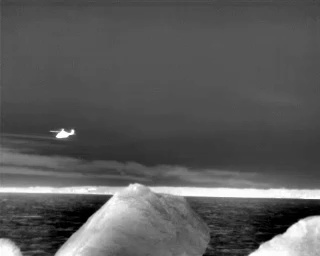HELICOPTER: (46, 123, 79, 143)
